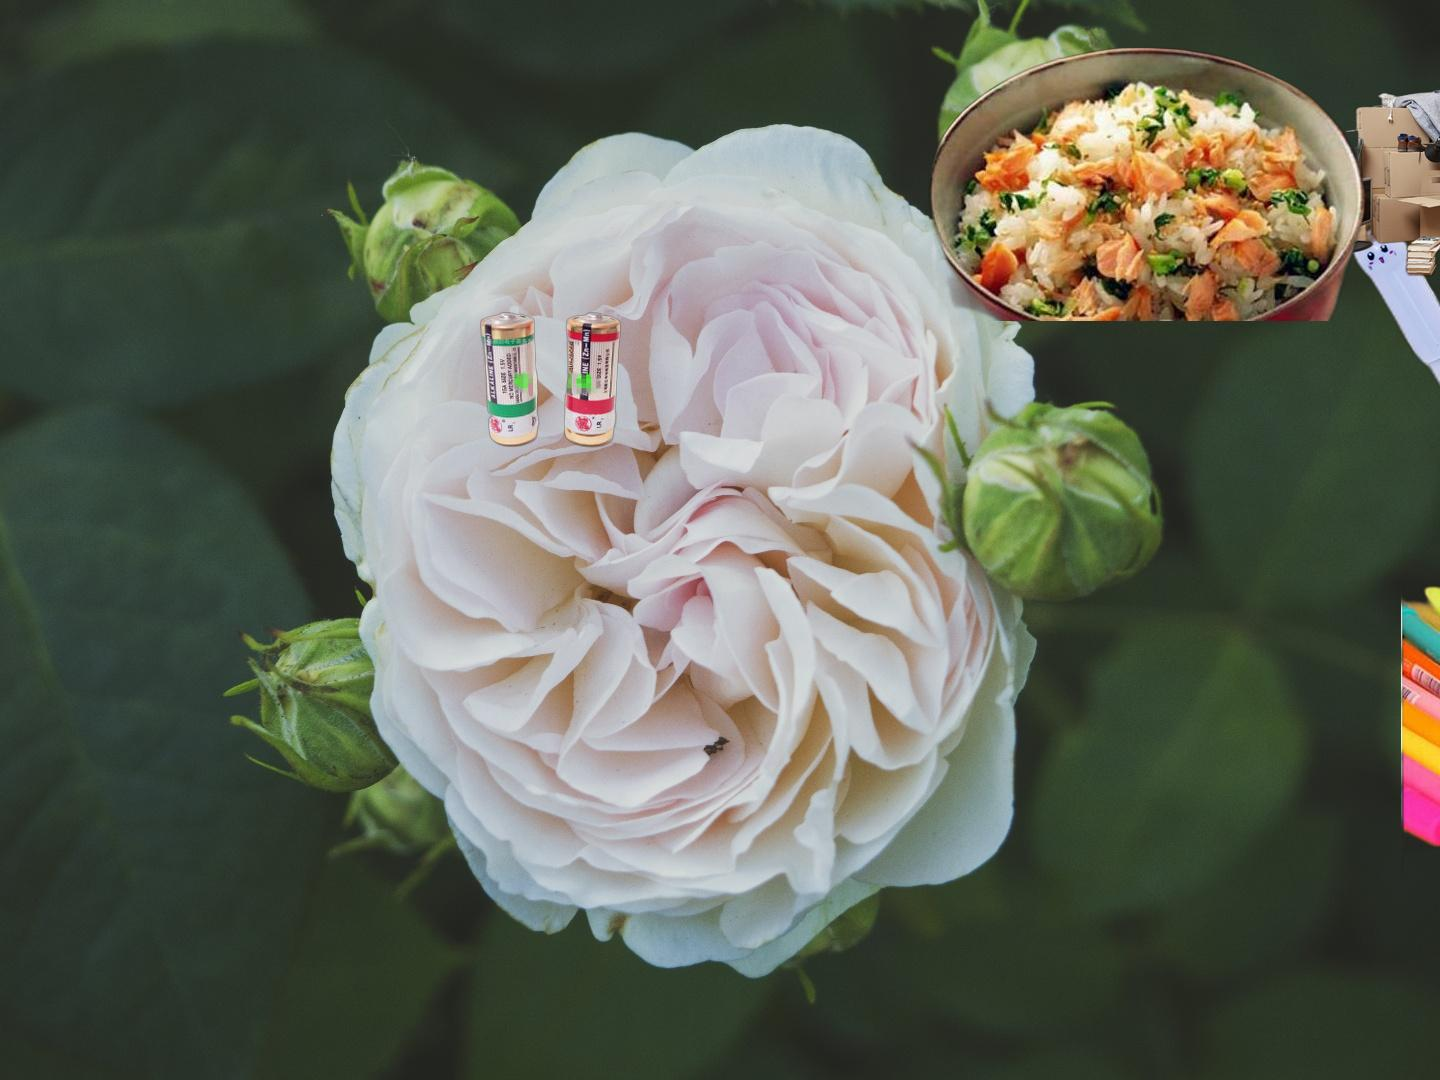battery: (478, 310, 622, 450)
biological: (926, 47, 1374, 321)
penholder: (1342, 141, 1440, 866), (1401, 568, 1440, 936)
trashbox-cardboard: (1328, 87, 1440, 278)
